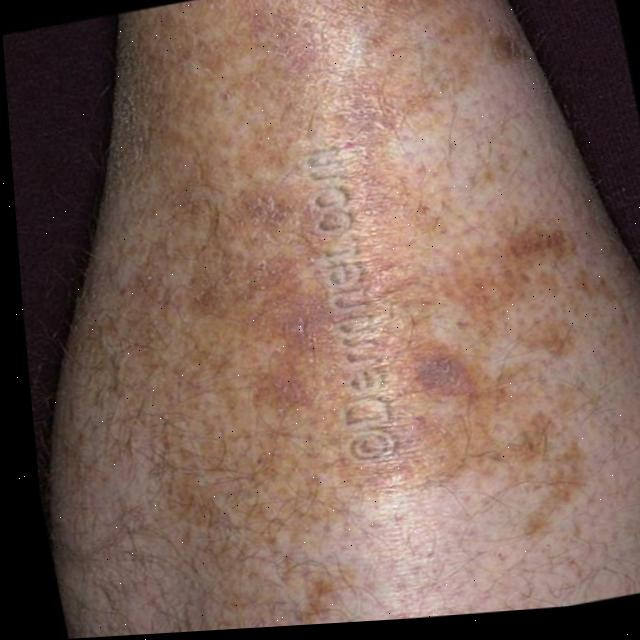Eczema: (53, 0, 601, 612)
